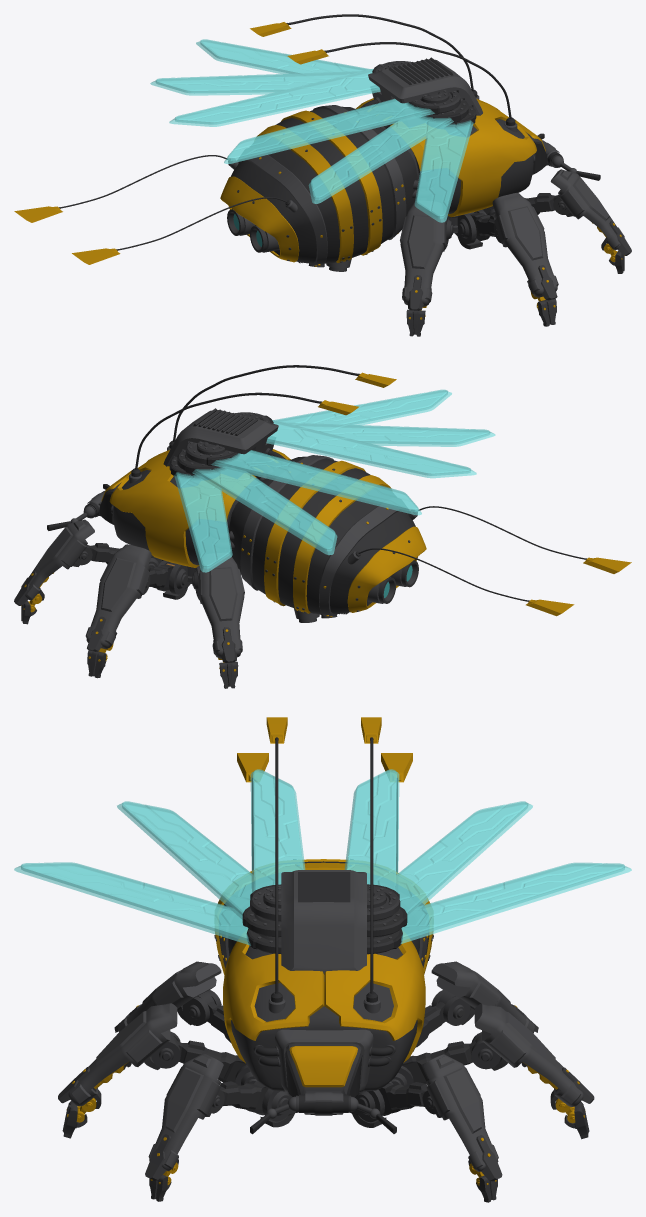
Rendered from Bumble_Bot_Draft_course_work.fbx.
The picture shows the model from 3 angles, top to bottom: view 1: azimuth 30°, elevation 25°; view 2: azimuth 150°, elevation 25°; view 3: azimuth 270°, elevation 25°; orthographic projection. The views are drawn at different scales.
Visible parts, largest first — view 1: polySurface2252; view 2: polySurface2252; view 3: polySurface2252.
Part boxes in pixels (x1=…): polySurface2252: x1=14, y1=14, x2=631, y2=336; polySurface2252: x1=14, y1=365, x2=631, y2=688; polySurface2252: x1=14, y1=717, x2=631, y2=1202.
Bounding box in the file's own units: 22.23 × 10.12 × 18.14.
